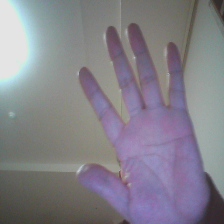hand: (71, 22, 209, 220)
